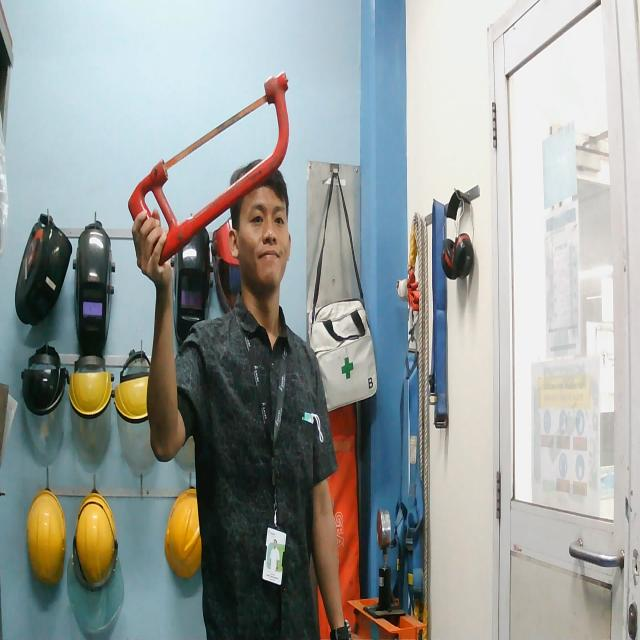gergaji_besi: (111, 54, 324, 287)
